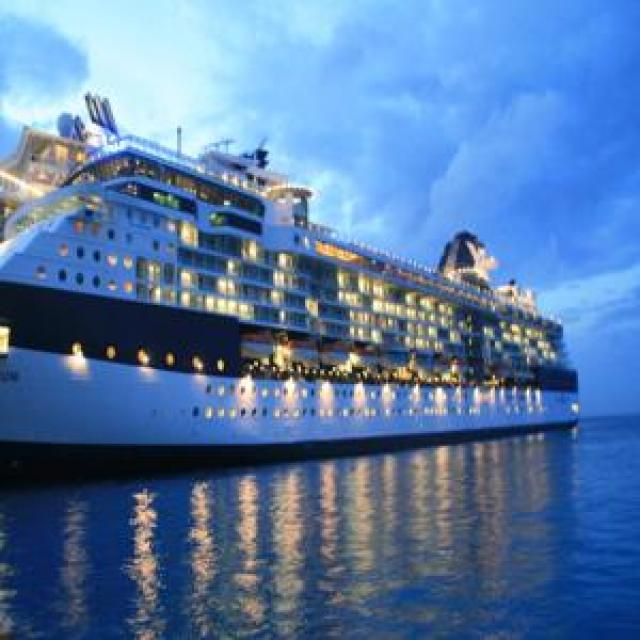passenger ship: (0, 91, 585, 467)
